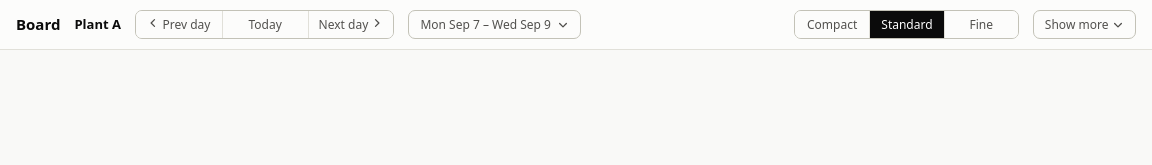
S67-b: one row, closed on a fresh board › Escape inside the band closes it; the band is a layer, not a dropdown that closes on any outside click
Step 1. Click the button "Show more" → x=1084, y=25, box x1=1033 y1=10 x2=1136 y2=39
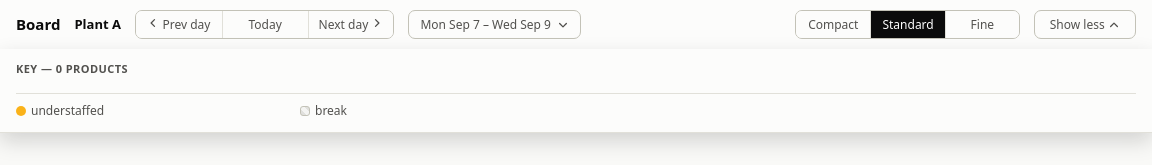
Check: the button "Show less" is expanded, box x1=1034 y1=10 x2=1136 y2=39
Step 2. Press Escape in the element showing "Key — 0 products understaffed break", box x1=0 y1=49 x2=1151 y2=133
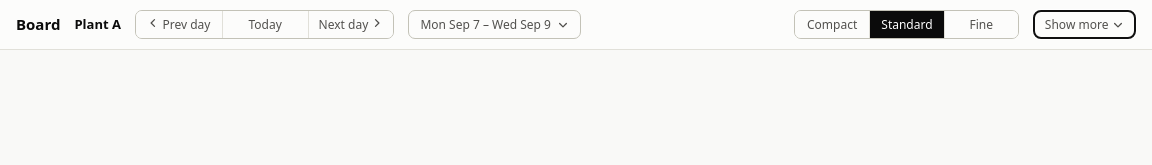
Check: the button "Show more" is collapsed, box x1=1033 y1=10 x2=1136 y2=39
